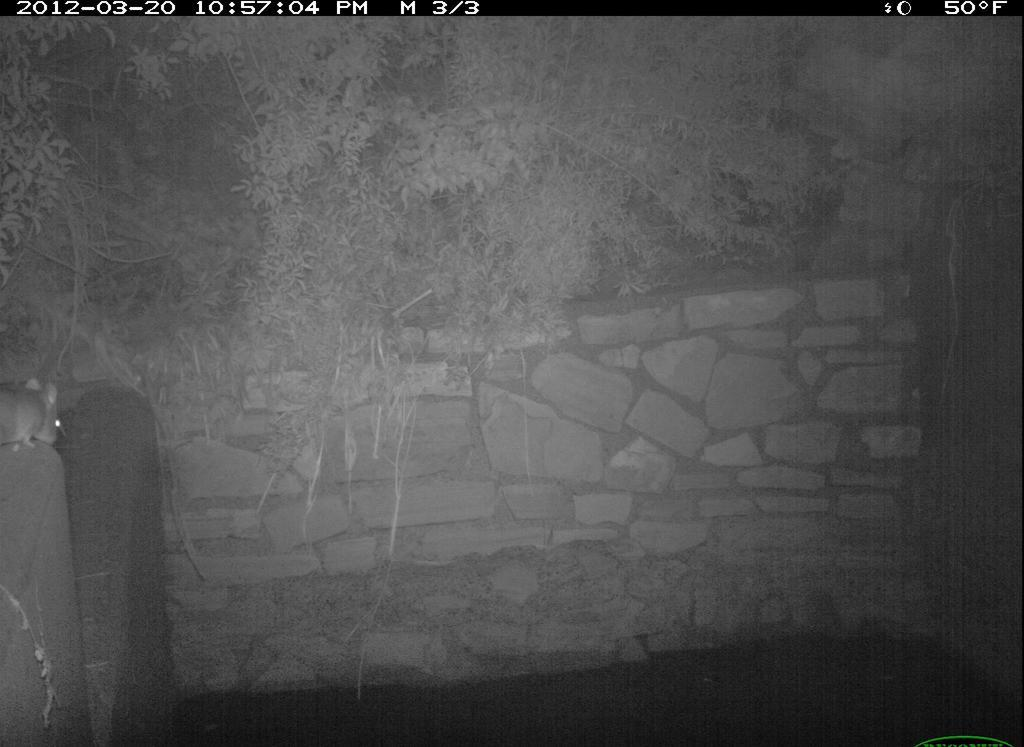rodent: (4, 369, 72, 466)
